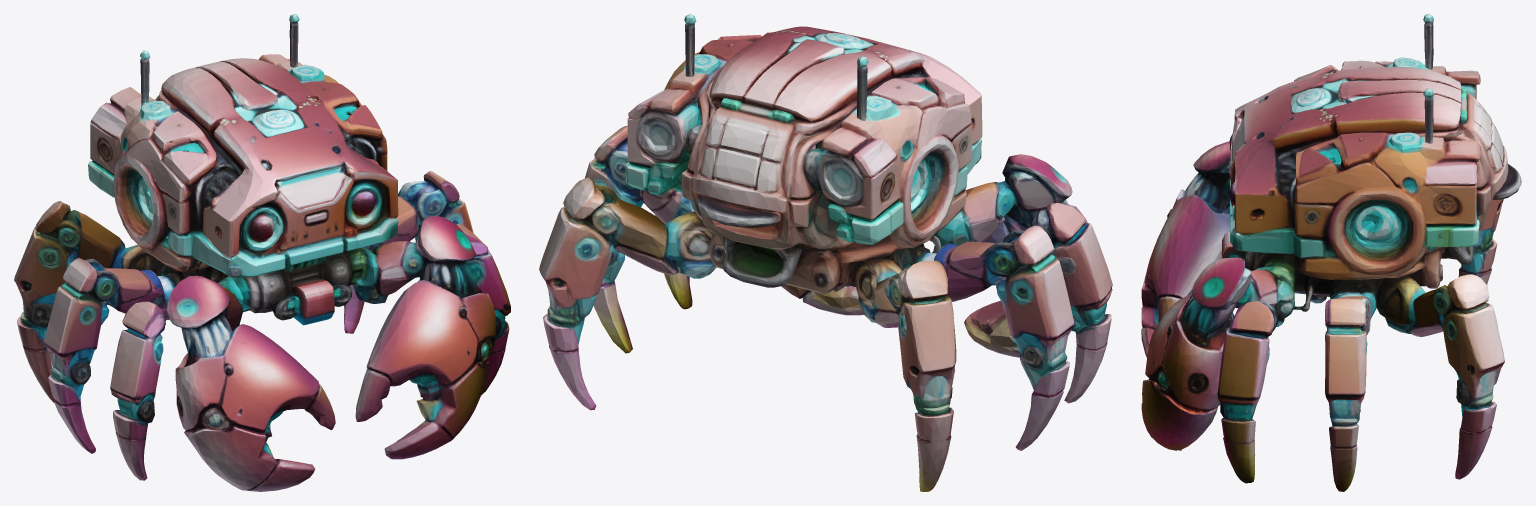
Rendered from crab_0.glb.
3 renders of one model, left to right at view 1: azimuth 30°, elevation 25°; view 2: azimuth 150°, elevation 25°; view 3: azimuth 270°, elevation 25°, orthographic. The views are drawn at different scales.
Parts seen in each view (by area): view 1: world; view 2: world; view 3: world.
Boxes of the visible parts, x1,y1,x2,y2 form: world: (14, 14, 510, 491); world: (539, 14, 1112, 491); world: (1141, 14, 1521, 491).
Size of the model in its own units: 0.9949 by 0.7893 by 0.765.
Materials: 1 (1 with a texture image).
